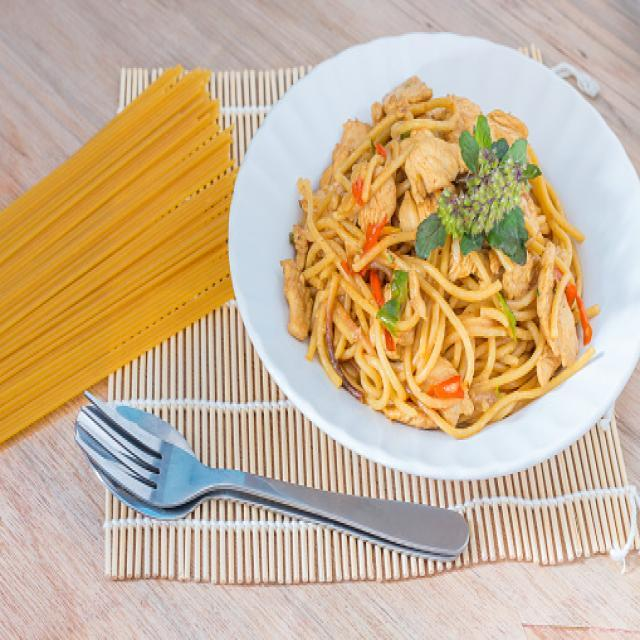cac loai rau cu: (410, 114, 557, 274)
mi ga hung que kem: (275, 66, 626, 447)
soi mi khoai lang: (300, 170, 603, 433)
thit ga: (409, 345, 479, 434), (394, 126, 474, 202), (538, 267, 590, 379), (279, 249, 335, 343), (369, 80, 454, 121), (480, 106, 546, 157), (329, 113, 385, 170)
